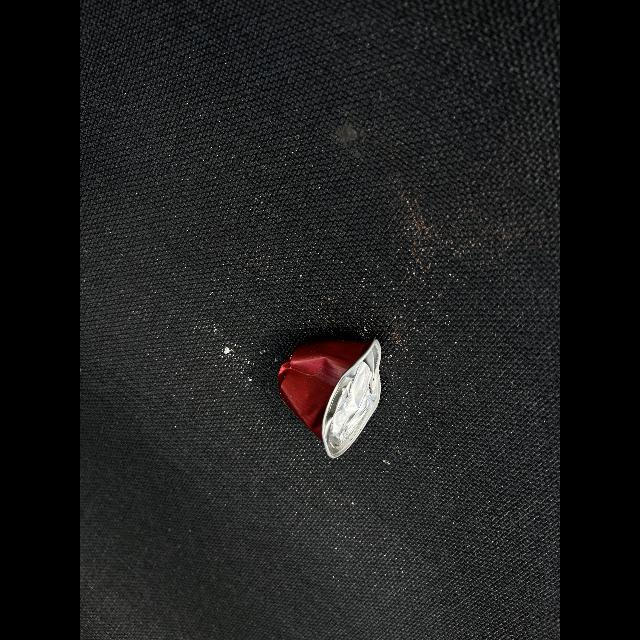damaged_capsule: (249, 320, 409, 470)
